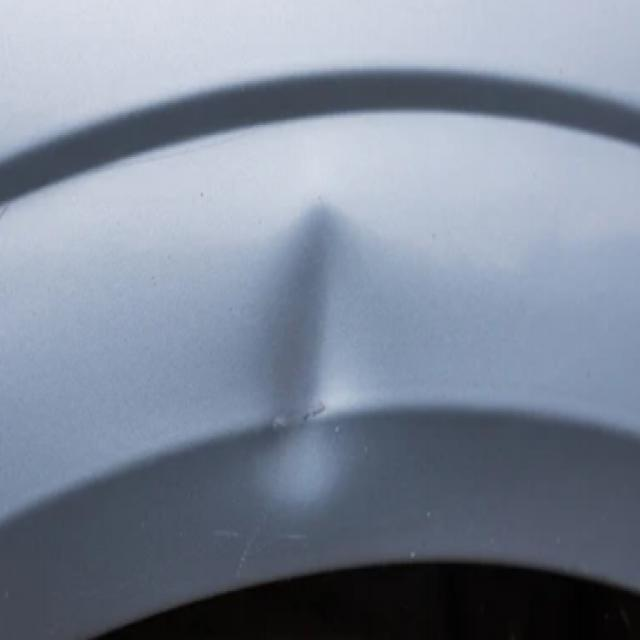dents: (248, 174, 382, 516)
